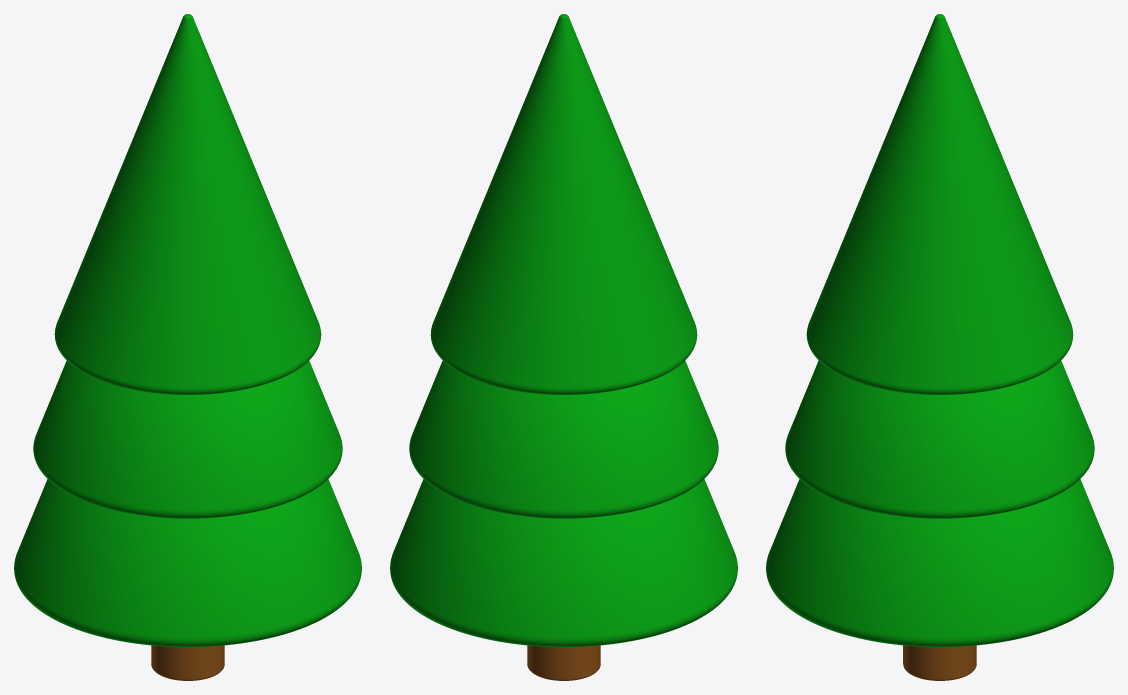
The model's file is tree.glb.
3 renders of one model, left to right at view 1: azimuth 30°, elevation 25°; view 2: azimuth 150°, elevation 25°; view 3: azimuth 270°, elevation 25°, orthographic.
Visible parts, largest first — view 1: Cone.004; view 2: Cone.004; view 3: Cone.004.
Part boxes in pixels (x1=…): Cone.004: x1=14, y1=14, x2=361, y2=680; Cone.004: x1=390, y1=14, x2=737, y2=680; Cone.004: x1=766, y1=14, x2=1113, y2=680.
Size of the model in its own units: 2.17 by 4.48 by 2.17.
